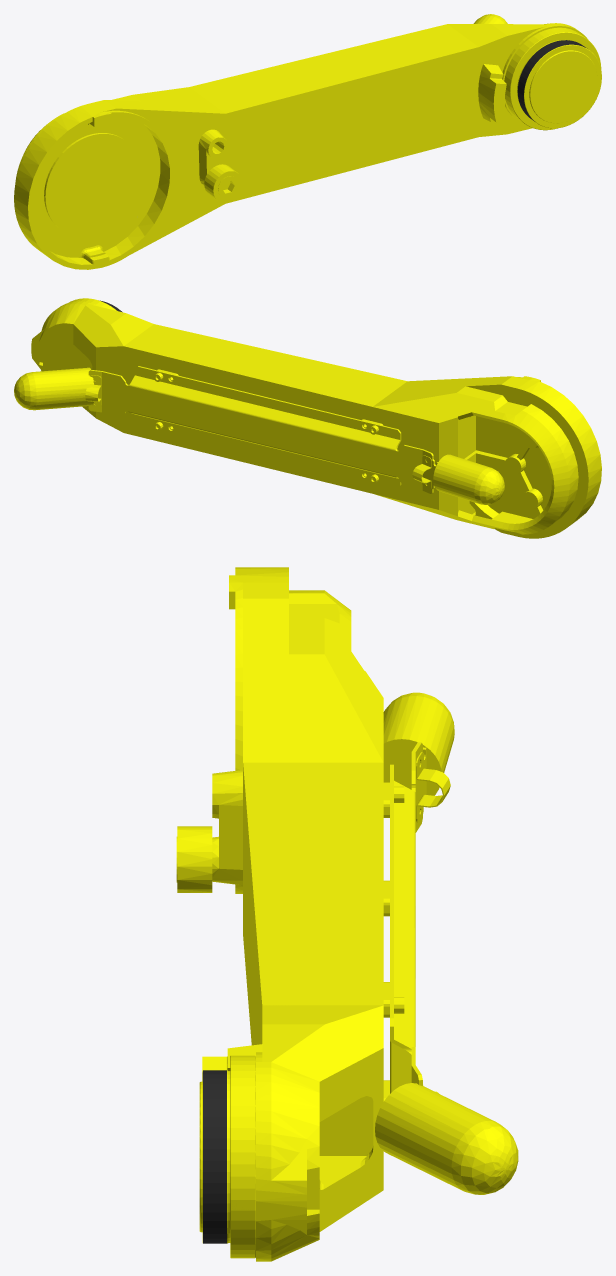
3 views of the same model, one above another, from view 1: azimuth 30°, elevation 25°; view 2: azimuth 150°, elevation 25°; view 3: azimuth 270°, elevation 25° (orthographic). The views are drawn at different scales.
Visible parts, largest first — view 1: node; view 2: node; view 3: node.
Boxes of the visible parts, x1,y1,x2,y2 form: node: (14, 14, 601, 269); node: (14, 298, 601, 538); node: (176, 567, 518, 1261).
Size of the model in its own units: 1000 by 256 by 330.
